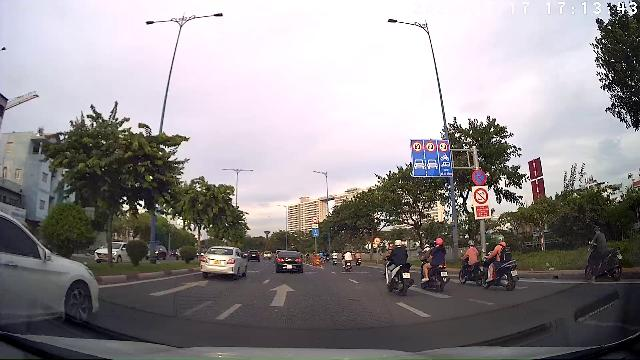103a-cam-oto: (374, 237, 381, 244)
127-toc-do-toi-da-50: (438, 141, 449, 153)
127-toc-do-toi-da-60: (425, 141, 436, 153), (412, 141, 423, 153)
130-cam-dung-va-do-xe: (472, 170, 487, 185)
